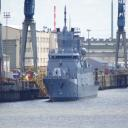Fragata: (43, 6, 100, 104)
